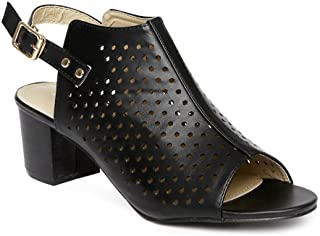shoes: (1, 1, 320, 226)
